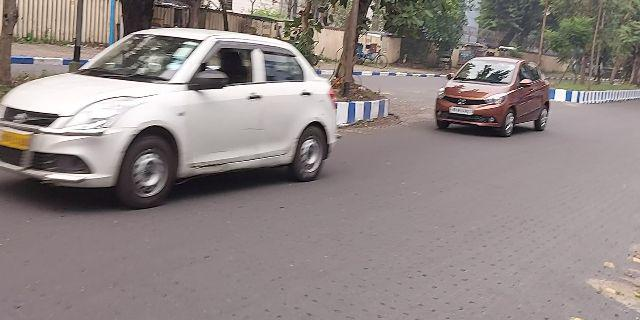Car: (5, 26, 343, 195), (435, 56, 553, 131)
